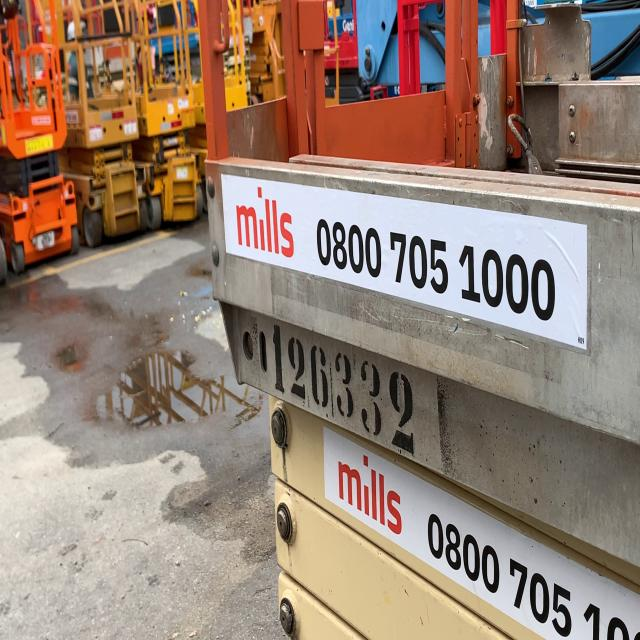Adesivo Longo: (218, 169, 593, 355)
